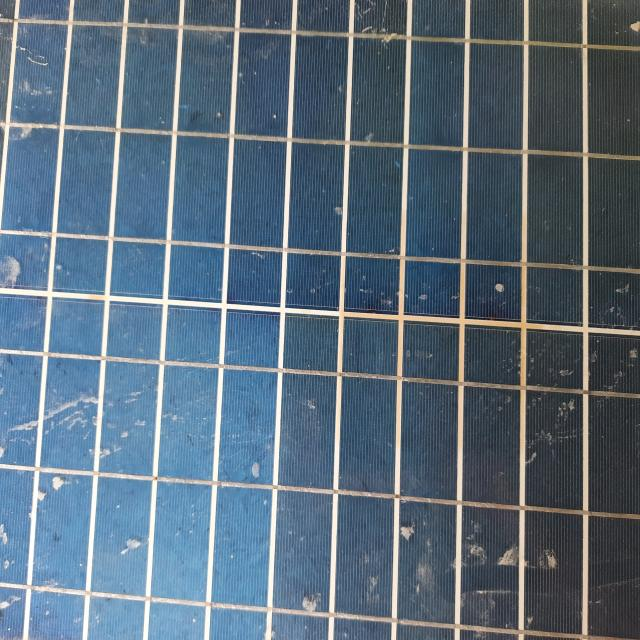dust-solar-panel: (0, 0, 640, 638)
